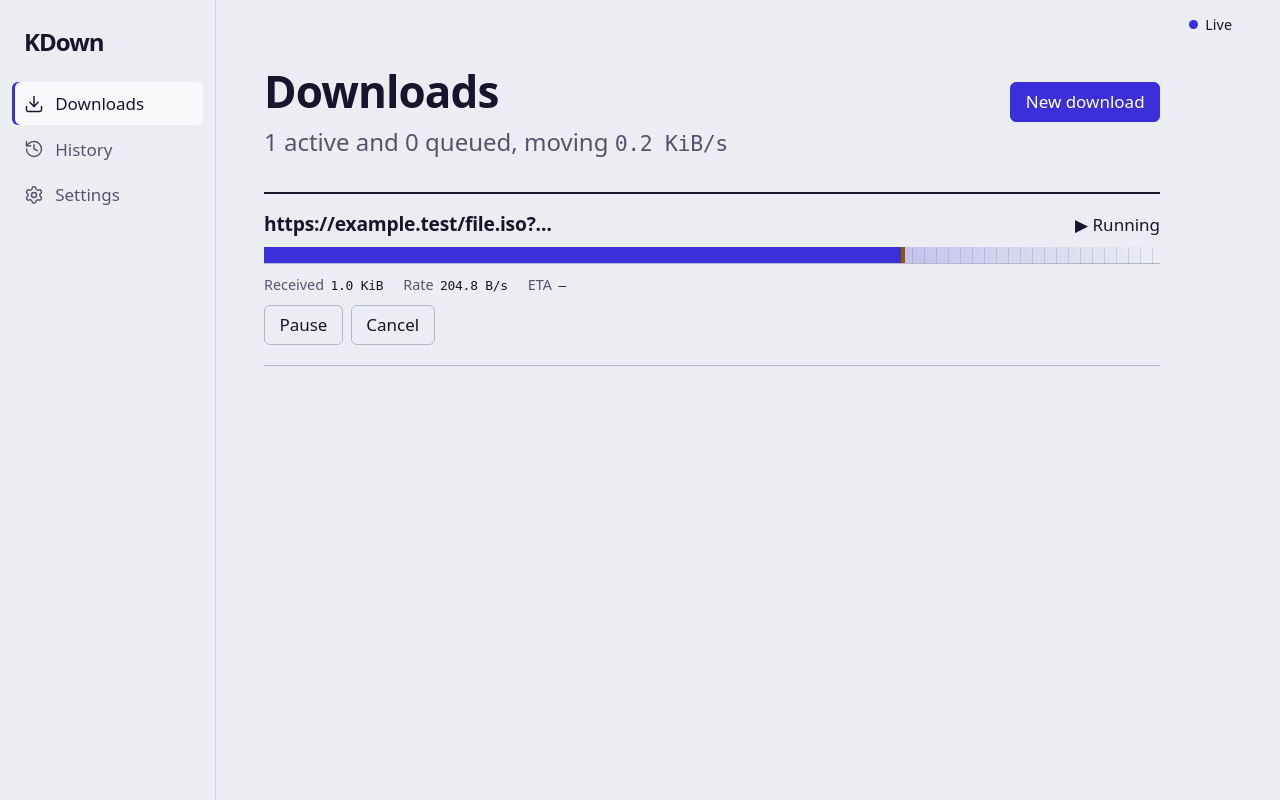
Test: NewDownloadDrawer › returns focus to the New Download button after Escape
Click the button "New download" at (1085, 102), box [1010, 82, 1160, 122]
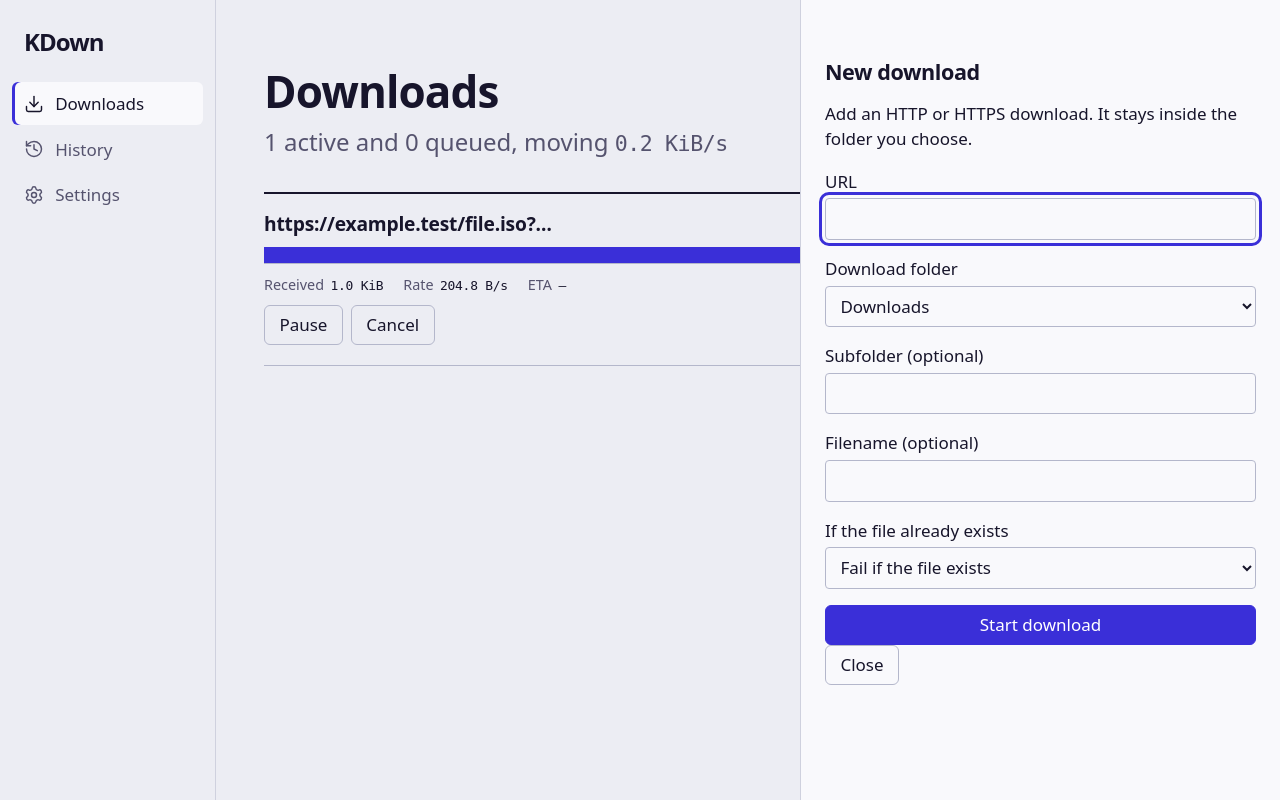
Expected: the dialog is shown, [800, 0, 1279, 799]
Press Escape
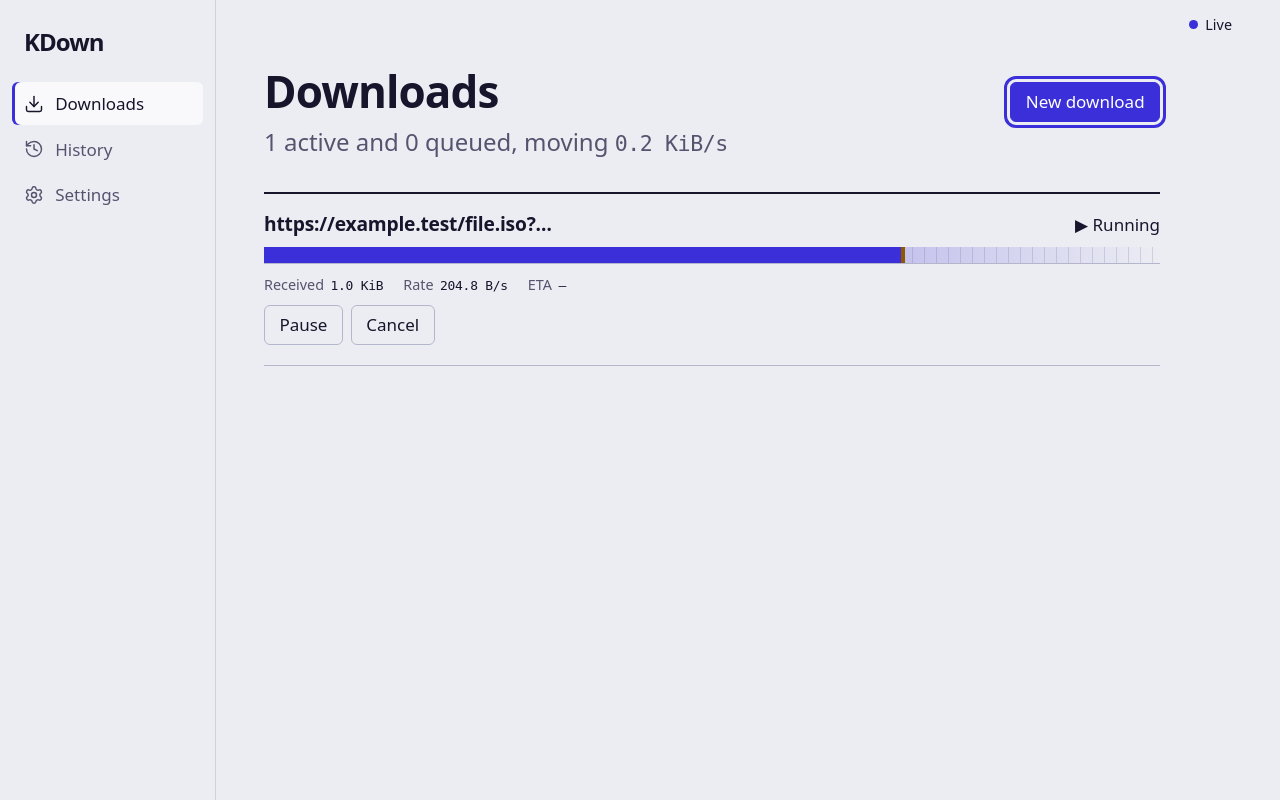
Expected: the dialog is gone
